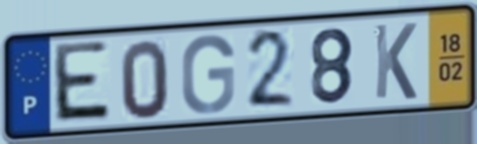0: (117, 35, 171, 123)
2: (243, 26, 296, 116)
8: (308, 25, 357, 107)
E: (50, 38, 114, 126)
G: (178, 31, 237, 117)
K: (372, 20, 419, 102)
